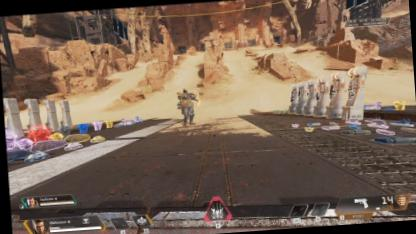Target: (174, 88, 196, 126)
